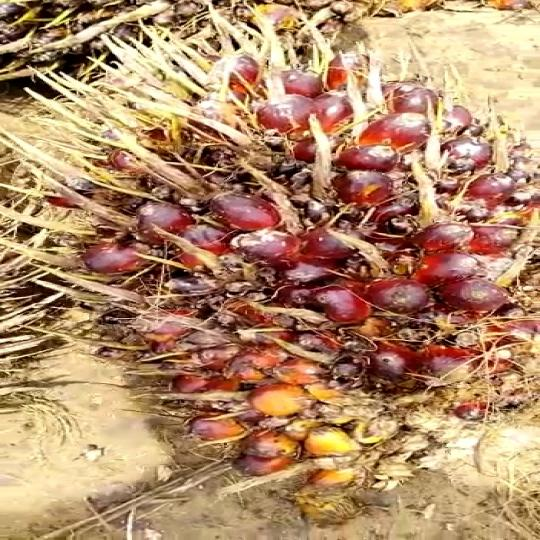masak: (16, 26, 540, 511)
